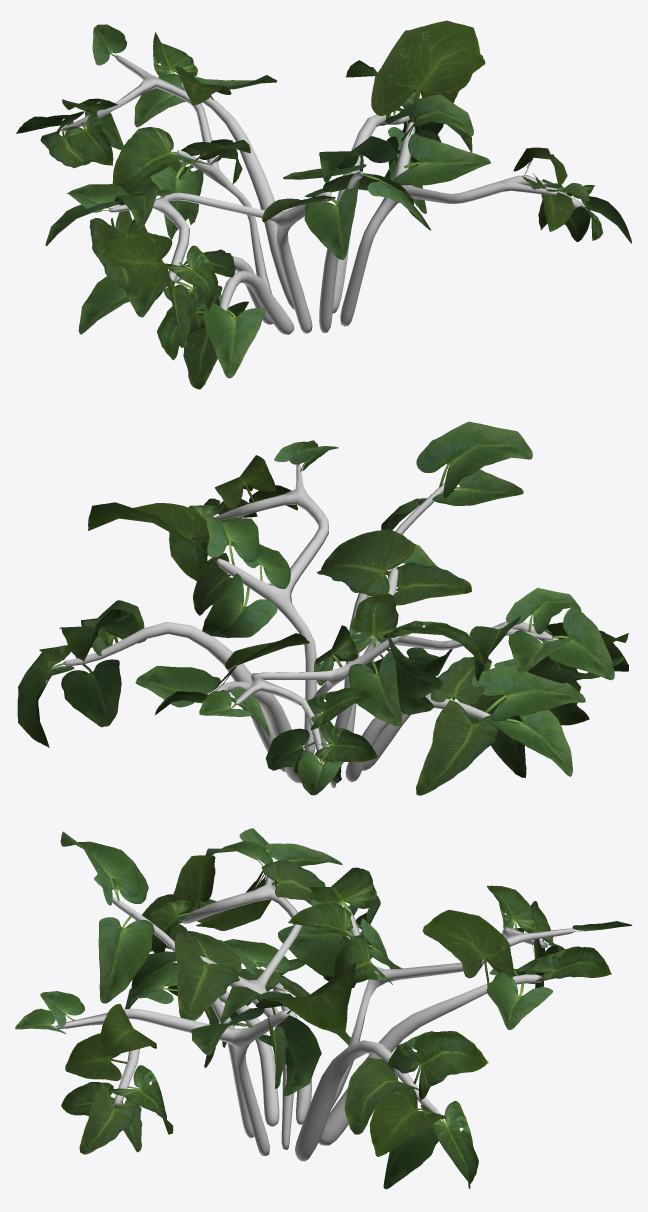
The model's file is folliage_02.FBX.
3 renders of one model, top to bottom at view 1: azimuth 30°, elevation 25°; view 2: azimuth 150°, elevation 25°; view 3: azimuth 270°, elevation 25°, orthographic. The views are drawn at different scales.
Visible parts, largest first — view 1: Object013; view 2: Object013; view 3: Object013.
Part boxes in pixels (x1,y1,x2,y2): Object013: (16,20,631,389); Object013: (17,421,628,795); Object013: (15,828,632,1189).
Bounding box in the file's own units: 20.28 × 10.84 × 21.01.
